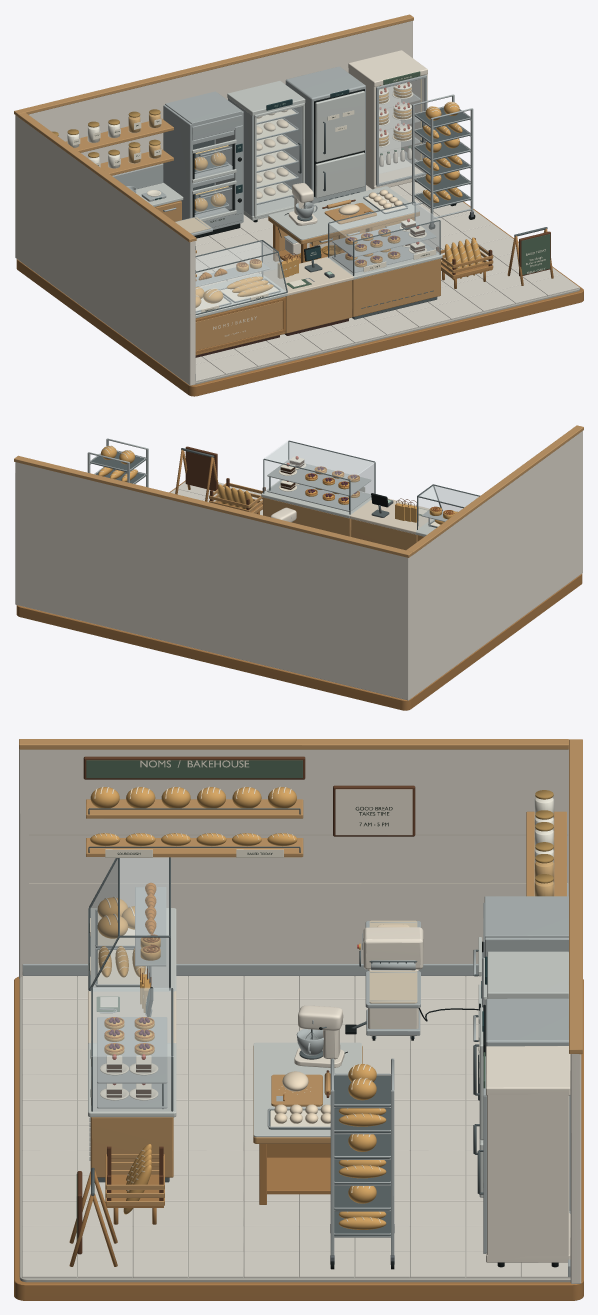
The model's file is sams-bakery.glb.
3 views of the same model, one above another, from view 1: azimuth 30°, elevation 25°; view 2: azimuth 150°, elevation 25°; view 3: azimuth 270°, elevation 25° (orthographic). The views are drawn at different scales.
Parts seen in each view (by area): view 1: Sam's bakery; view 2: Sam's bakery; view 3: Sam's bakery.
Part boxes in pixels (x1,y1,x2,y2): Sam's bakery: (14, 14, 583, 396); Sam's bakery: (14, 425, 583, 710); Sam's bakery: (14, 739, 583, 1300).
Size of the model in its own units: 9.53 by 3.62 by 7.4.
